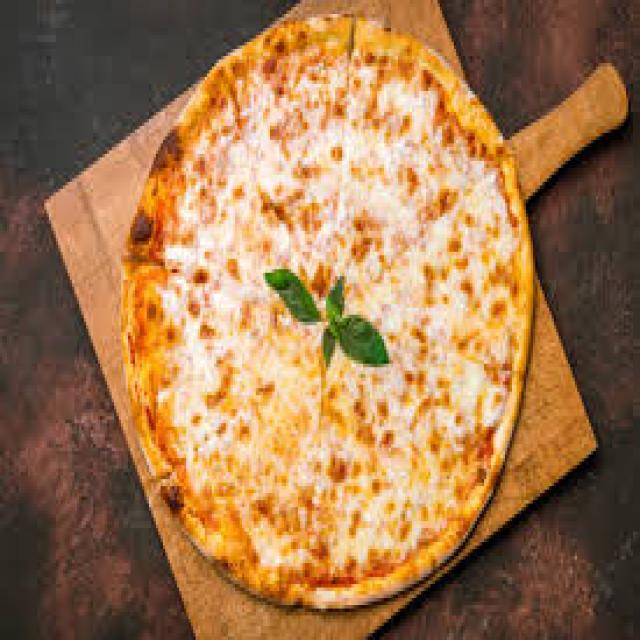피자: (116, 0, 589, 640)
